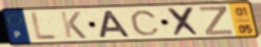A: (99, 10, 133, 39)
C: (129, 10, 162, 37)
K: (58, 11, 89, 40)
L: (30, 11, 59, 41)
X: (165, 6, 203, 38)
Z: (198, 6, 236, 37)
